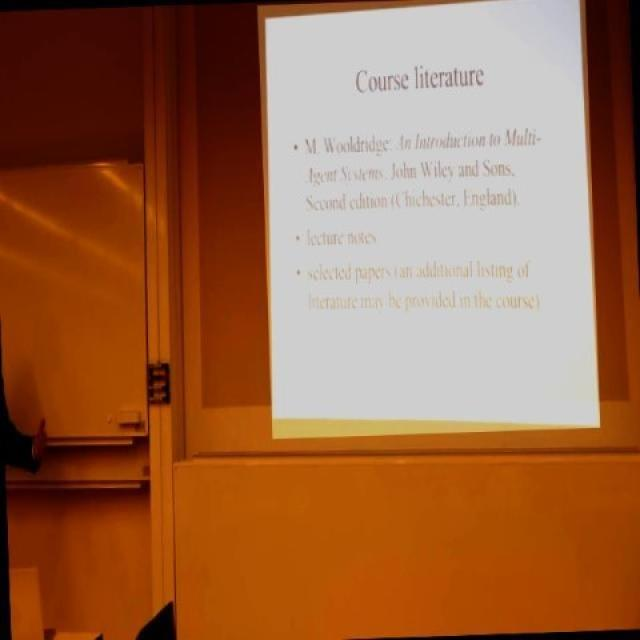Slide: (259, 2, 599, 434)
White-board: (0, 152, 140, 433)
